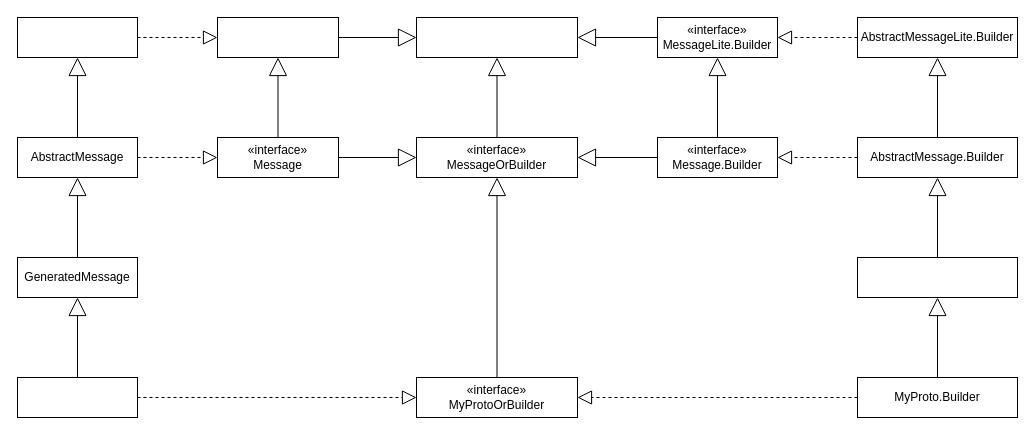
The diagram is 1035 pixels wide and 435 high, and some of its shapes have lost their labels. Each missing label, with the centre of its shape:
"AbstractMessageLite" goes at (77,37).
"GeneratedMessage.Builder" goes at (937,277).
"MyProto" goes at (77,397).
"«interface» MessageLite" goes at (277,37).
"«interface» MessageLiteOrBuilder" goes at (497,37).
